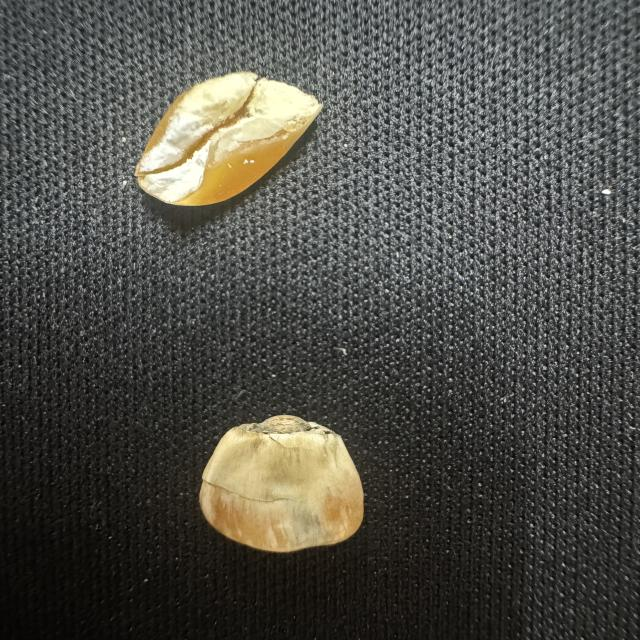Bad-Seed: (178, 408, 391, 578), (123, 56, 331, 224)
